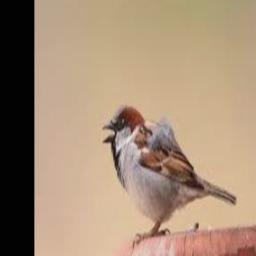Sparrow: (101, 103, 236, 246)
